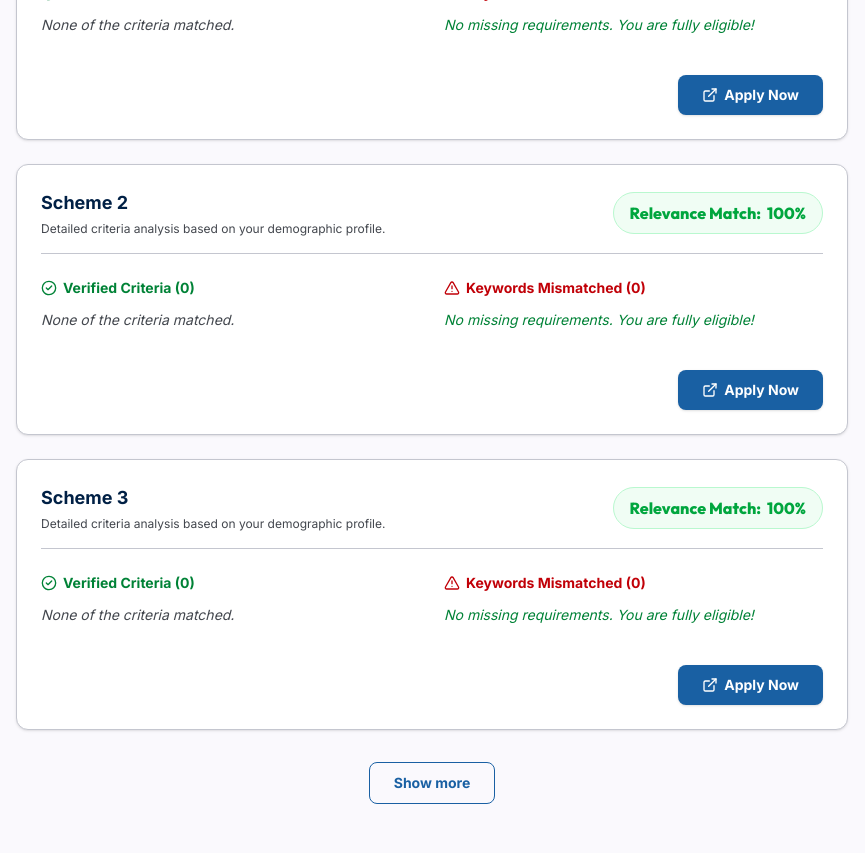
Test: Eligibility results when signed in: Show more › the count becomes "5" with the next page and the button goes
(page scrolled)
Click the button with test id "show-more": (432, 783) 369,762 -> 495,804
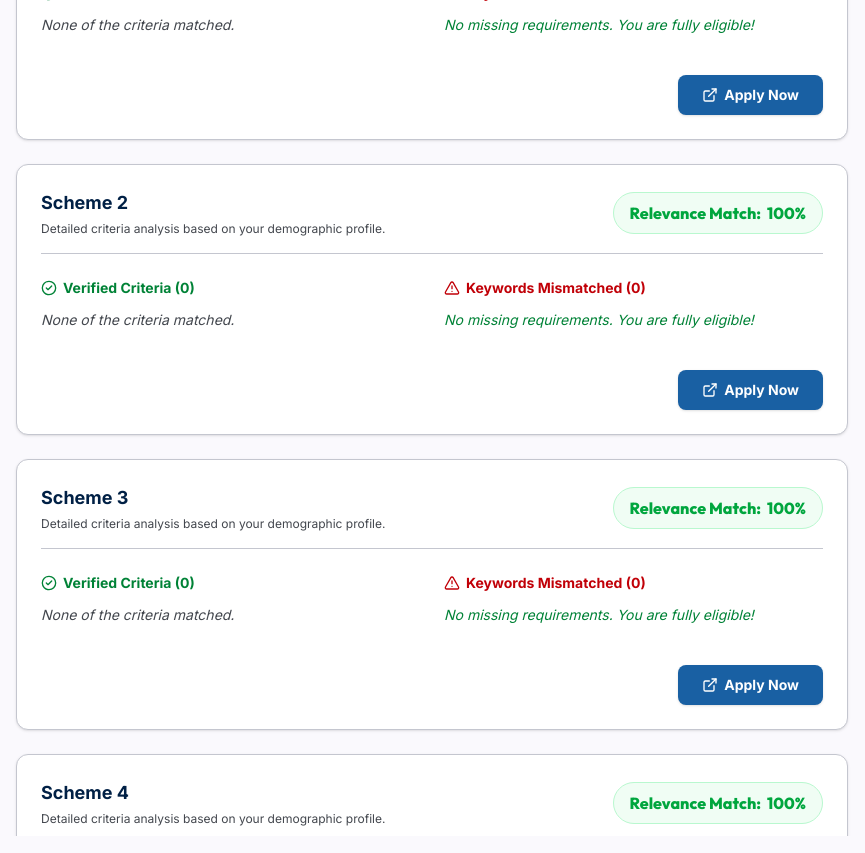
Check: the button with test id "show-more" is gone
